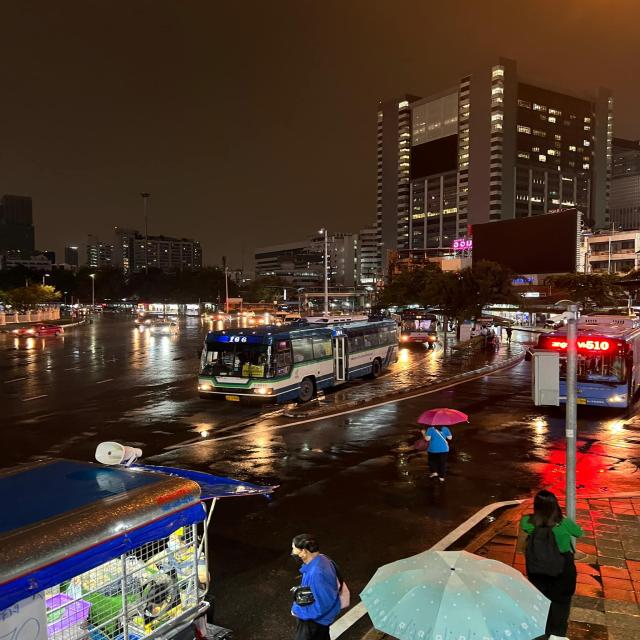BMTA-bus: (195, 316, 401, 401), (531, 309, 640, 412), (389, 310, 440, 347)
Bus-Line-Number: (586, 340, 610, 350), (226, 334, 248, 344), (412, 315, 426, 319)
Destination-Sign-Normal: (586, 375, 618, 382), (424, 329, 433, 331)
Destination-Sign-Normal-Expressway: (242, 364, 264, 377)
